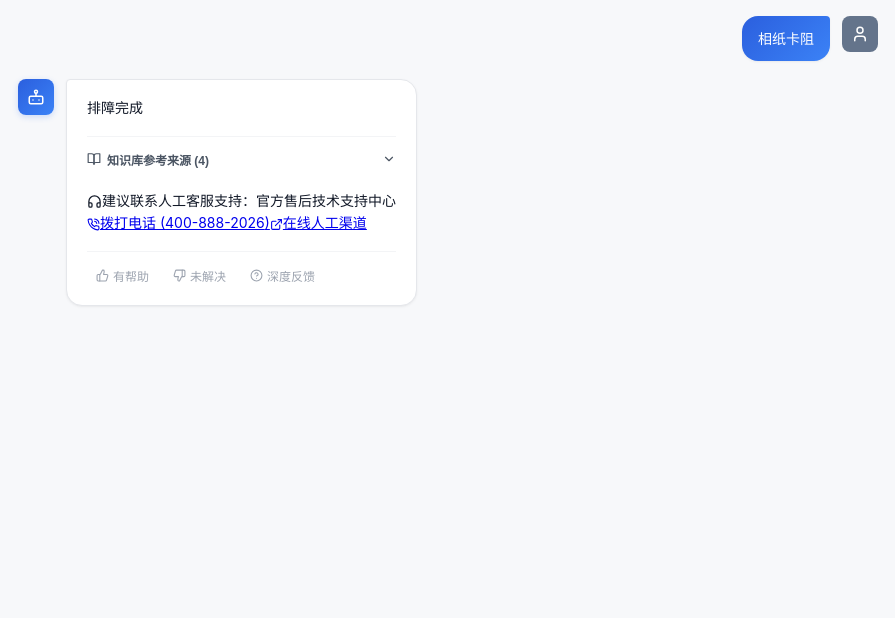
Test case: Tier 1 & 2 Component: MessageList, Citation Accordion & Safety Dispatch › T1-MSG-05: toggles knowledge citations accordion and displays similarity score
The image size is (895, 618).
Expected: the text "知识库参考来源 (4)" is shown, [87,151,209,168]
# Expand citations
Step 1. Click the button "知识库参考来源 (4)" → [153, 161], box [87,147,396,172]
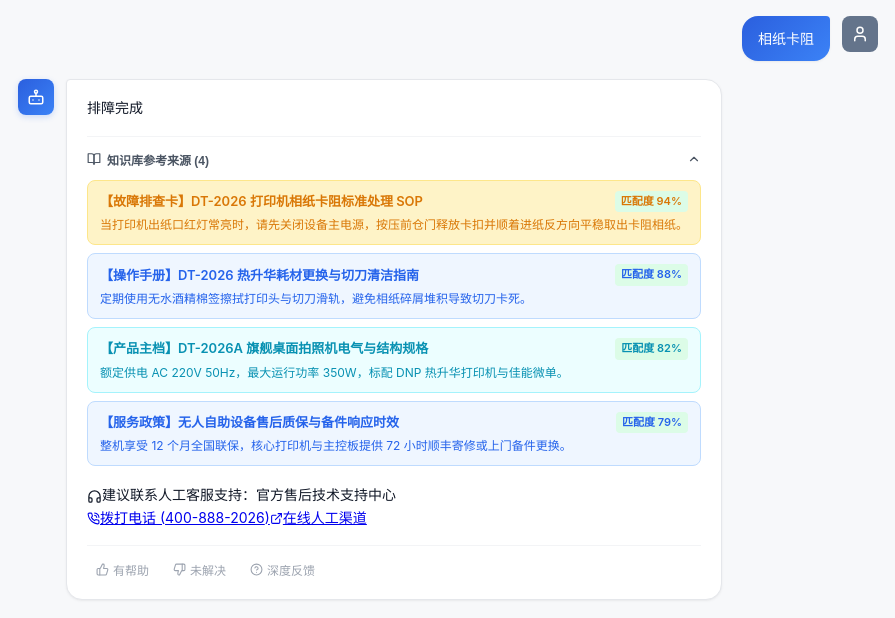
Now the text "【故障排查卡】DT-2026 打印机相纸卡阻标准处理 SOP" is shown, box [100,191,423,212]
Now the text "匹配度 94%" is shown, box [615,191,688,212]
Now the text "当打印机出纸口红灯常亮时，请先关闭设备主电源，按压前仓门释放卡扣并顺着进纸反方向平稳取出卡阻相纸。" is shown, box [100,216,688,234]
